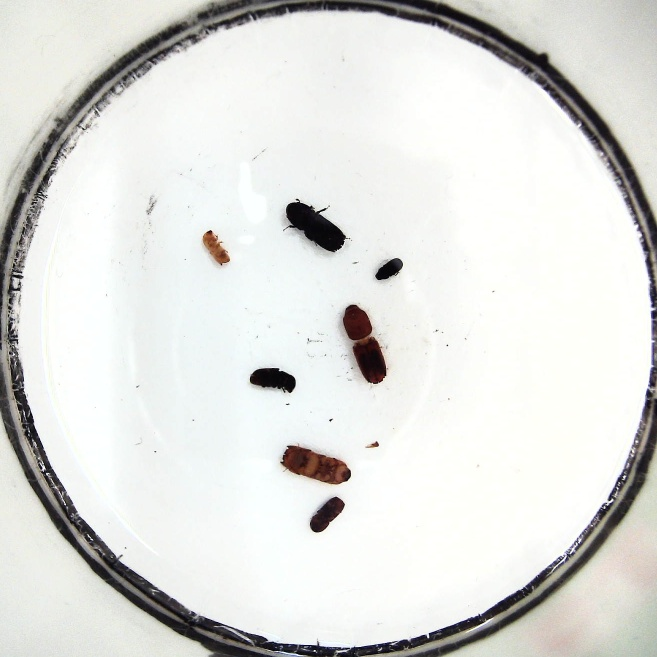acuminatus: (200, 230, 231, 268)
armandi: (249, 366, 296, 396)
boerner: (342, 303, 388, 384), (285, 201, 346, 253), (281, 444, 352, 485)
coleoptera: (375, 258, 403, 281)
linnaeus: (308, 497, 344, 533)
